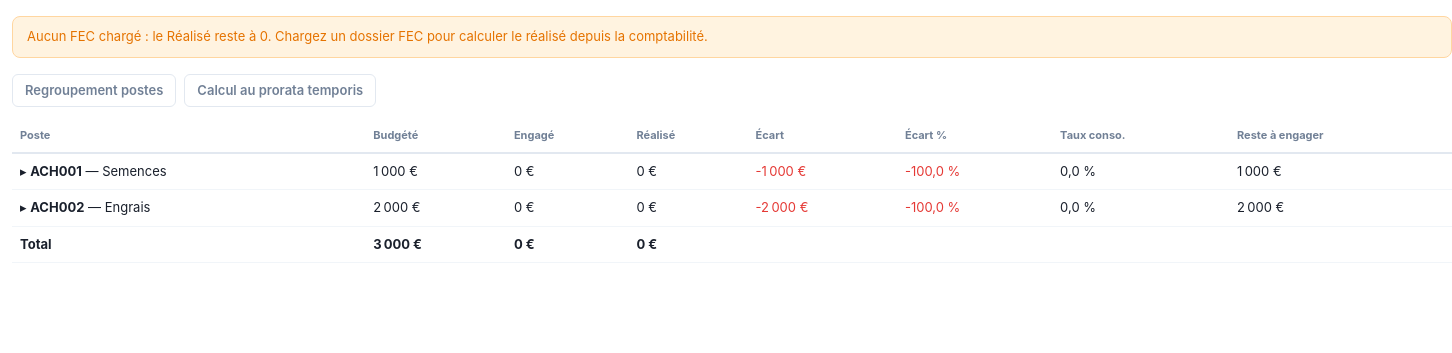
it: TableauEcarts › trie par code et propose le regroupement postes
This screenshot has width=1452, height=353.
Expected: the text "ACH001" is shown, [30,162,82,178]
Expected: the text "ACH002" is shown, [30,199,84,215]
Click the button "Regroupement postes" at [94, 90], box [12,74,176,107]
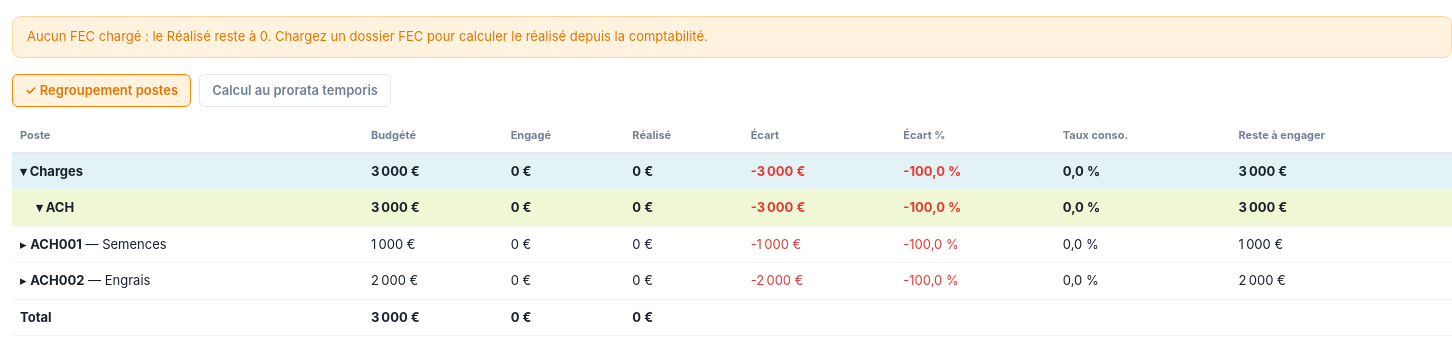
Result: the text "▾ ACH" is shown at [12,190,363,226]
Result: the text "▾ Charges" is shown at [12,152,363,190]
